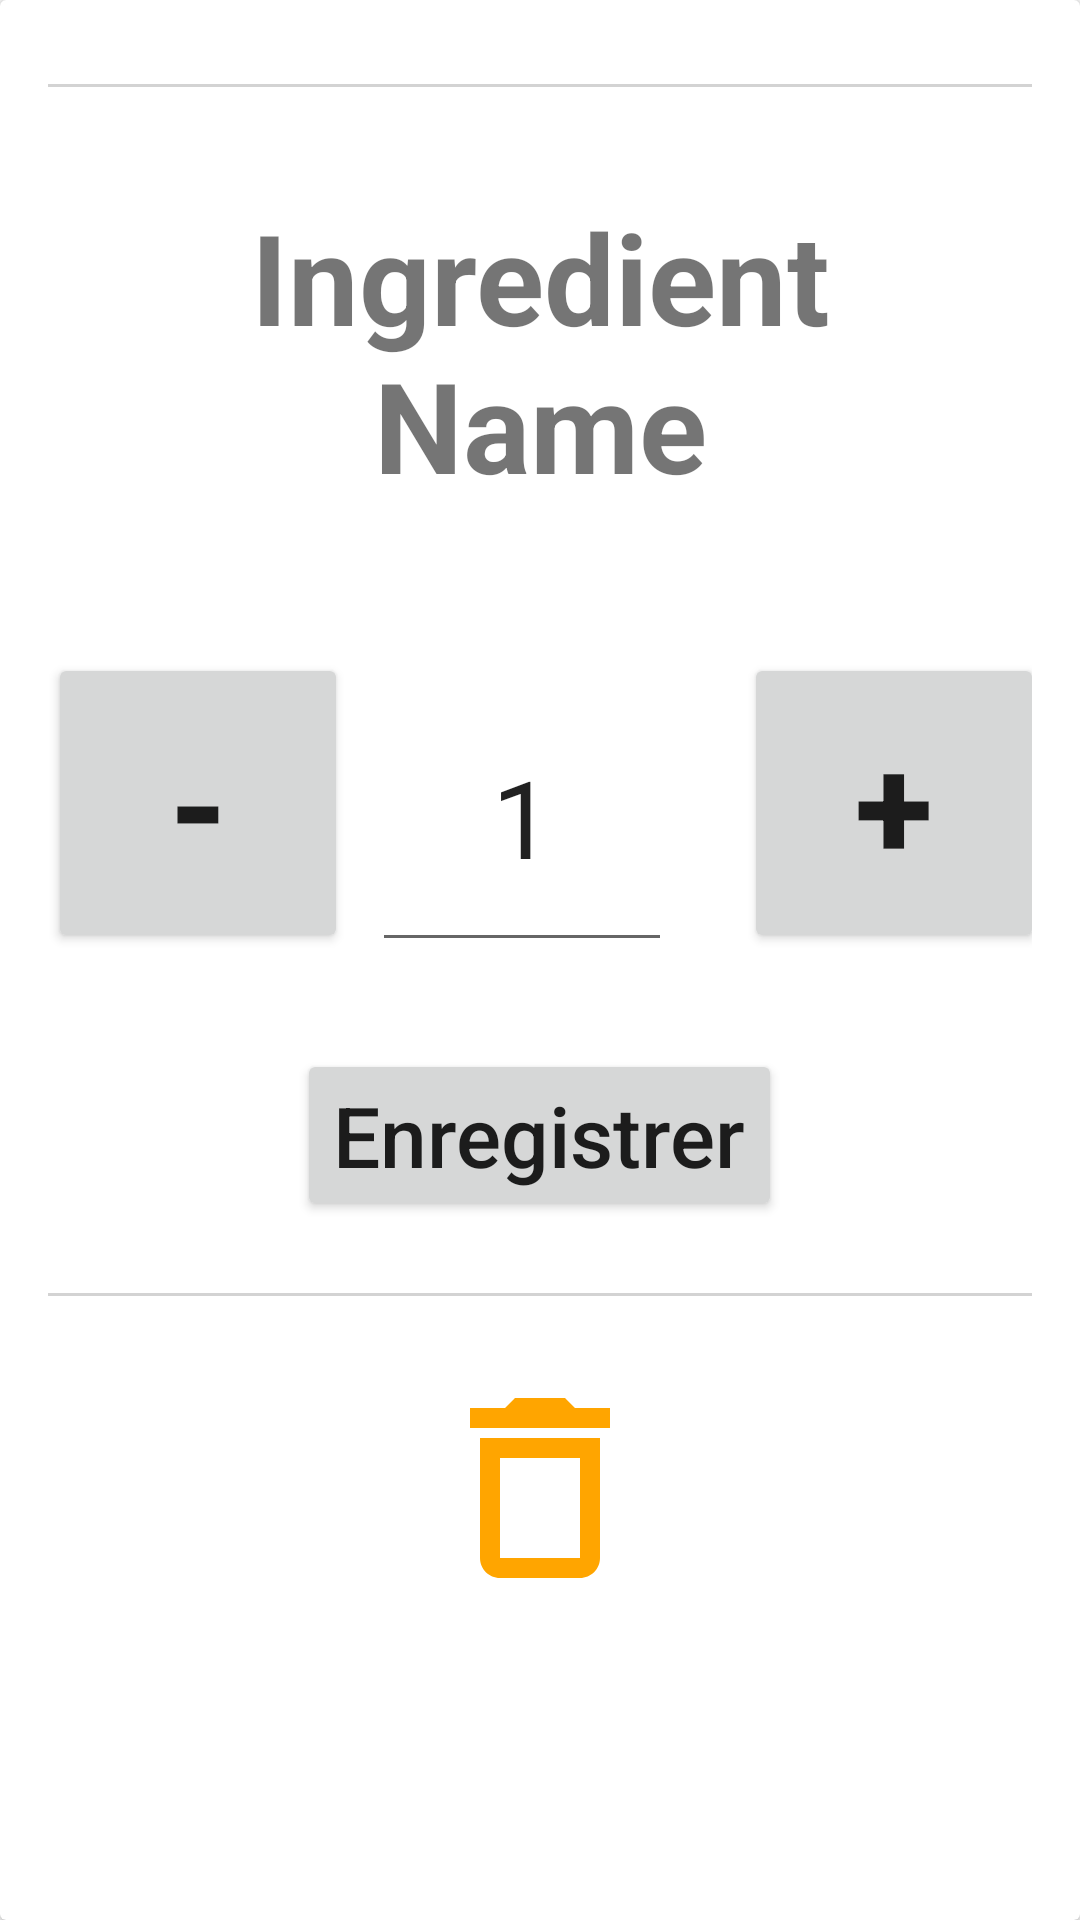

Named icons in this screenshot (1080px×1920px) and their bounding boxes, [x1, y1, x2, y2]:
Supprimer: [470, 1398, 610, 1578]
